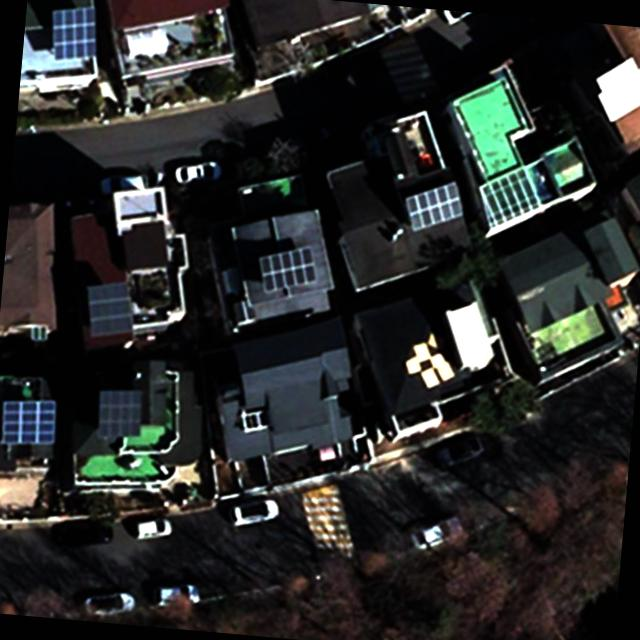solar: (254, 238, 324, 302), (399, 174, 469, 238), (80, 275, 140, 342), (0, 389, 60, 452), (46, 1, 104, 64), (92, 385, 146, 436)
